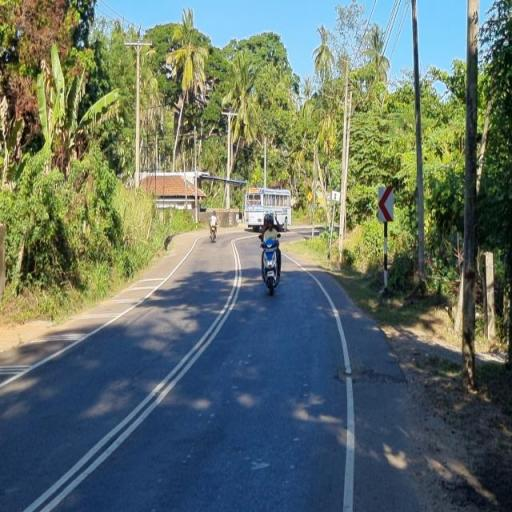double_white_line: (18, 237, 244, 511)
